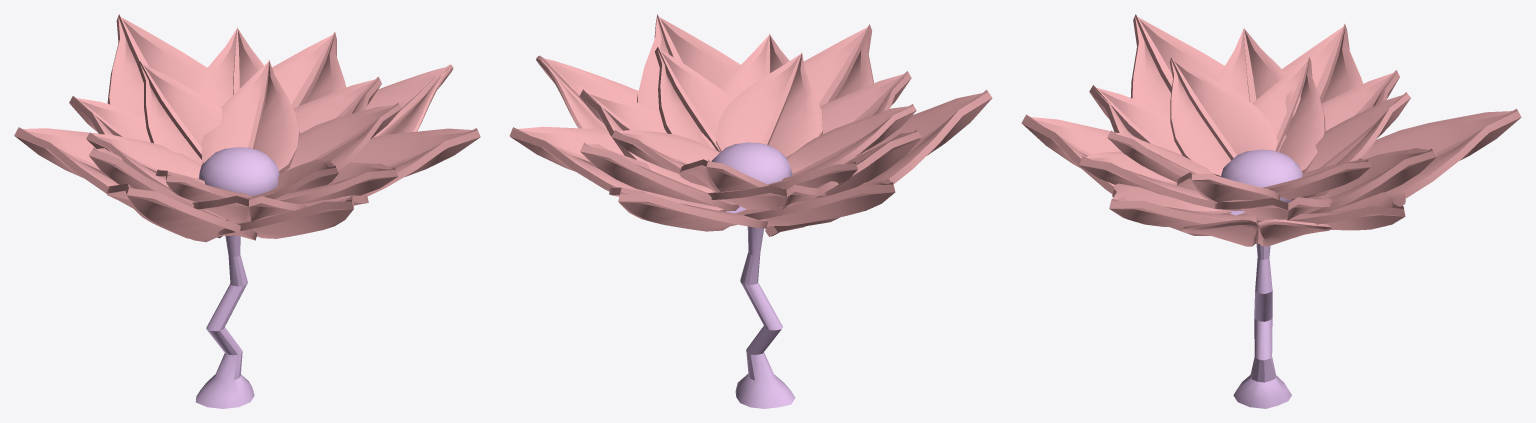
File: Flower.fbx
3 views of the same model, side by side, from view 1: azimuth 30°, elevation 25°; view 2: azimuth 150°, elevation 25°; view 3: azimuth 270°, elevation 25° (orthographic). The views are drawn at different scales.
Visible parts, largest first — view 1: Plane.017, Plane.016, Plane, Cylinder, Plane.003, Plane.012, Plane.004, Plane.001, Plane.005, Sphere, Plane.018, Plane.002 (+9 smaller); view 2: Plane.013, Plane.012, Cylinder, Plane.004, Plane.015, Plane.001, Plane.003, Plane.002, Plane.005, Plane, Plane.011, Plane.010 (+9 smaller); view 3: Plane.015, Plane, Plane.014, Plane.004, Cylinder, Plane.003, Plane.016, Plane.011, Plane.002, Plane.009, Plane.007, Plane.005 (+9 smaller).
Part boxes in pixels (left/top/right/bottom): Plane.017: left=201, top=60, right=300, bottom=172; Plane.016: left=137, top=61, right=222, bottom=164; Plane: left=107, top=14, right=207, bottom=113; Cylinder: left=195, top=235, right=254, bottom=408; Plane.003: left=288, top=128, right=480, bottom=211; Plane.012: left=273, top=103, right=401, bottom=189; Plane.004: left=107, top=183, right=257, bottom=242; Plane.001: left=272, top=32, right=346, bottom=108; Plane.005: left=14, top=127, right=230, bottom=221; Sphere: left=198, top=147, right=279, bottom=196; Plane.018: left=366, top=64, right=453, bottom=136; Plane.002: left=215, top=195, right=368, bottom=238; Plane.013: left=716, top=52, right=820, bottom=157; Plane.012: left=655, top=47, right=733, bottom=152; Cylinder: left=726, top=206, right=795, bottom=408; Plane.004: left=765, top=90, right=992, bottom=236; Plane.015: left=782, top=104, right=916, bottom=180; Plane.001: left=509, top=126, right=727, bottom=211; Plane.003: left=637, top=14, right=740, bottom=108; Plane.002: left=804, top=24, right=873, bottom=106; Plane.005: left=735, top=178, right=895, bottom=225; Plane: left=609, top=186, right=767, bottom=231; Plane.011: left=580, top=142, right=739, bottom=211; Plane.010: left=579, top=89, right=715, bottom=192; Plane.015: left=1169, top=57, right=1277, bottom=176; Plane: left=1365, top=108, right=1521, bottom=198; Plane.014: left=1252, top=56, right=1325, bottom=172; Plane.004: left=1130, top=14, right=1224, bottom=112; Cylinder: left=1222, top=210, right=1291, bottom=408; Plane.003: left=1109, top=183, right=1256, bottom=227; Plane.016: left=1291, top=92, right=1410, bottom=200; Plane.011: left=1303, top=148, right=1436, bottom=213; Plane.002: left=1021, top=114, right=1209, bottom=235; Plane.009: left=1089, top=85, right=1221, bottom=210; Plane.007: left=1216, top=28, right=1301, bottom=117; Plane.005: left=1282, top=23, right=1362, bottom=102.
Bounding box in the file's own units: 3.49 × 2.48 × 3.71.
